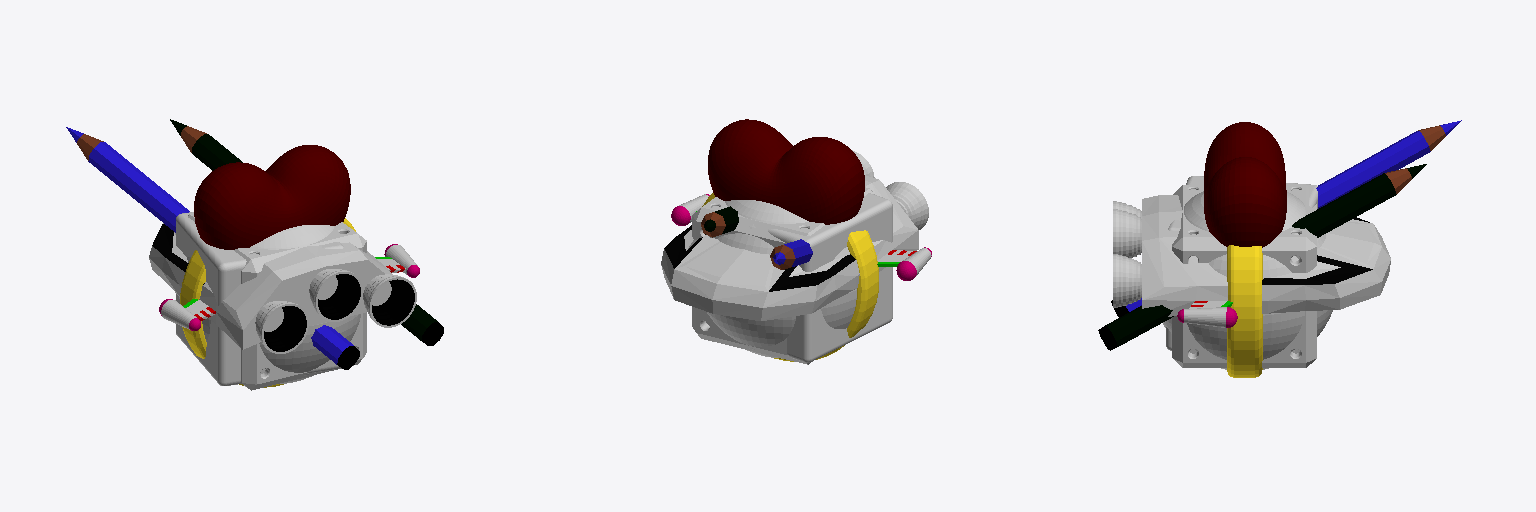
The model's file is ProjectFile.obj.
3 renders of one model, left to right at view 1: azimuth 30°, elevation 25°; view 2: azimuth 150°, elevation 25°; view 3: azimuth 270°, elevation 25°, orthographic.
Parts seen in each view (by area): view 1: Propulsori_Circle.006, BASE_HEART_Material_#41_0, Cube.026_Cube.031, Matita_viola_Plane.006, Question_Material_0, Sphere.001, Matita_verde_Plane.005, Coin_Coin_0; view 2: Propulsori_Circle.006, BASE_HEART_Material_#41_0, Cube.026_Cube.031, Sphere.001, Question_Material_0, Coin_Coin_0, Matita_viola_Plane.006, Matita_verde_Plane.005; view 3: Propulsori_Circle.006, BASE_HEART_Material_#41_0, Question_Material_0, Matita_verde_Plane.005, Sphere.001, Coin_Coin_0, Matita_viola_Plane.006, Cube.026_Cube.031.
Part boxes in pixels (bbox=[...]): Propulsori_Circle.006: bbox=[149, 223, 419, 353]; BASE_HEART_Material_#41_0: bbox=[194, 145, 350, 249]; Cube.026_Cube.031: bbox=[176, 212, 343, 385]; Matita_viola_Plane.006: bbox=[66, 127, 359, 369]; Question_Material_0: bbox=[188, 213, 366, 390]; Sphere.001: bbox=[179, 225, 360, 383]; Matita_verde_Plane.005: bbox=[170, 119, 443, 345]; Coin_Coin_0: bbox=[180, 218, 355, 387]; Propulsori_Circle.006: bbox=[661, 150, 931, 320]; BASE_HEART_Material_#41_0: bbox=[708, 119, 864, 224]; Cube.026_Cube.031: bbox=[712, 193, 892, 362]; Sphere.001: bbox=[707, 200, 856, 358]; Question_Material_0: bbox=[692, 187, 874, 364]; Coin_Coin_0: bbox=[702, 193, 878, 361]; Matita_viola_Plane.006: bbox=[770, 239, 812, 269]; Matita_verde_Plane.005: bbox=[701, 206, 738, 237]; Propulsori_Circle.006: bbox=[1113, 195, 1390, 327]; BASE_HEART_Material_#41_0: bbox=[1204, 122, 1286, 247]; Question_Material_0: bbox=[1172, 185, 1316, 367]; Matita_verde_Plane.005: bbox=[1098, 164, 1426, 350]; Sphere.001: bbox=[1163, 191, 1332, 369]; Coin_Coin_0: bbox=[1227, 245, 1262, 377]; Matita_viola_Plane.006: bbox=[1111, 120, 1461, 317]; Cube.026_Cube.031: bbox=[1166, 176, 1317, 352].
Size of the model in its own units: 388 by 342 by 502.